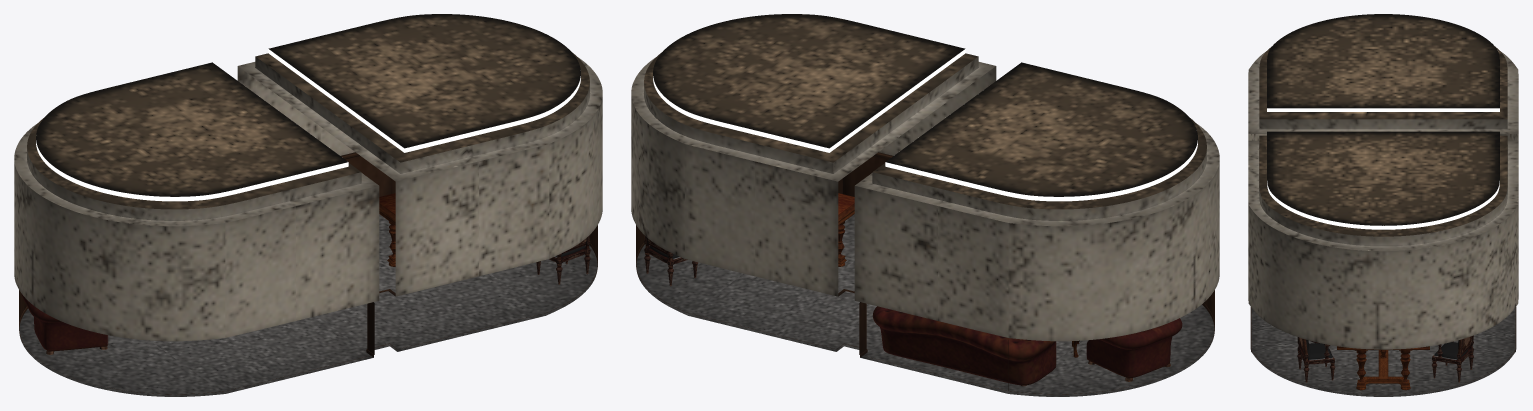
The model's file is 1_Room_high_206_RL_300mW.gltf.
3 views of the same model, side by side, from view 1: azimuth 30°, elevation 25°; view 2: azimuth 150°, elevation 25°; view 3: azimuth 270°, elevation 25° (orthographic). The views are drawn at different scales.
Visible parts, largest first — view 1: RoomShell, armchair01, chair01, Table02; view 2: RoomShell, Sofa01, armchair01, chair01, Table02; view 3: RoomShell, chair01, Table02.
Boxes of the visible parts, <box> form: RoomShell: <box>14,14,602,396</box>; armchair01: <box>21,294,108,354</box>; chair01: <box>536,235,590,284</box>; Table02: <box>379,193,395,266</box>; RoomShell: <box>631,14,1219,396</box>; Sofa01: <box>872,306,1056,386</box>; armchair01: <box>1086,318,1182,381</box>; chair01: <box>644,236,698,286</box>; Table02: <box>838,193,854,266</box>; RoomShell: <box>1248,14,1518,396</box>; chair01: <box>1297,335,1473,382</box>; Table02: <box>1337,346,1429,390</box>.
Bounding box in the file's own units: 9.92 × 3.37 × 4.98.
Materials: 11 (10 with a texture image).
